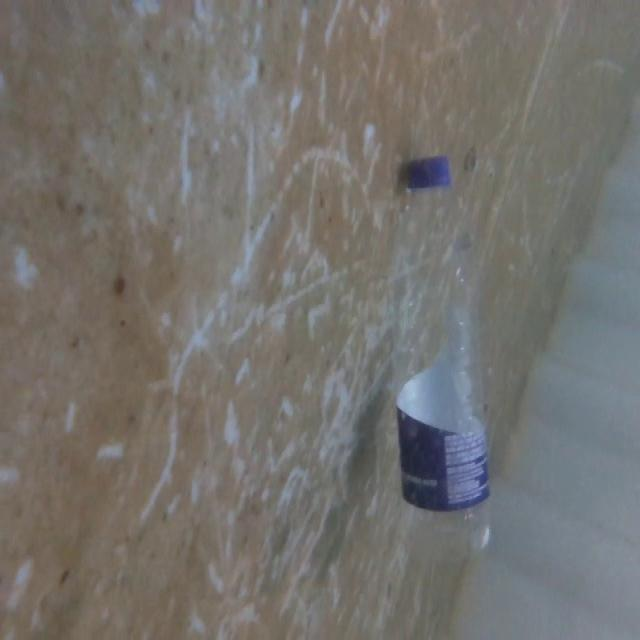plastic bottle: (388, 152, 500, 568)
